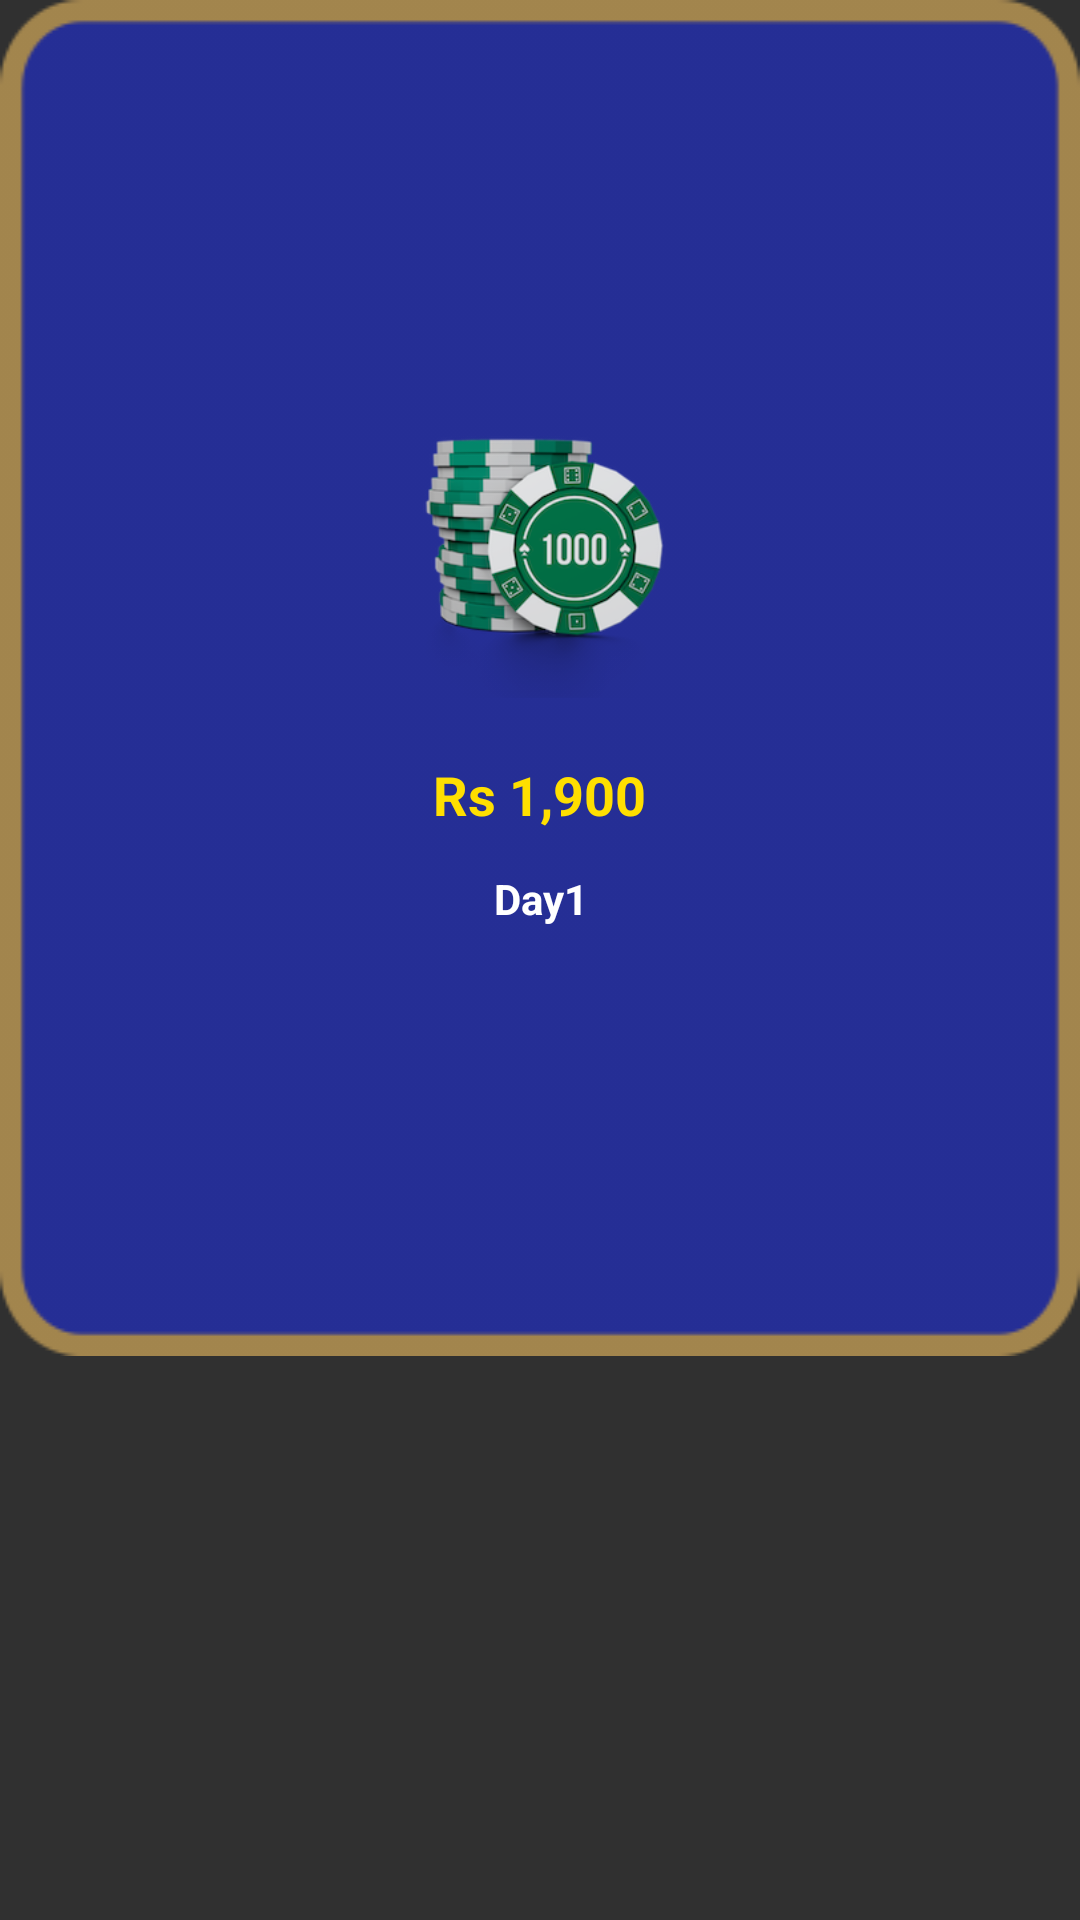

Named icons in this screenshot (1080*1920) and their centers, point (x, y):
bulkchipsgreen: point (544, 546)
